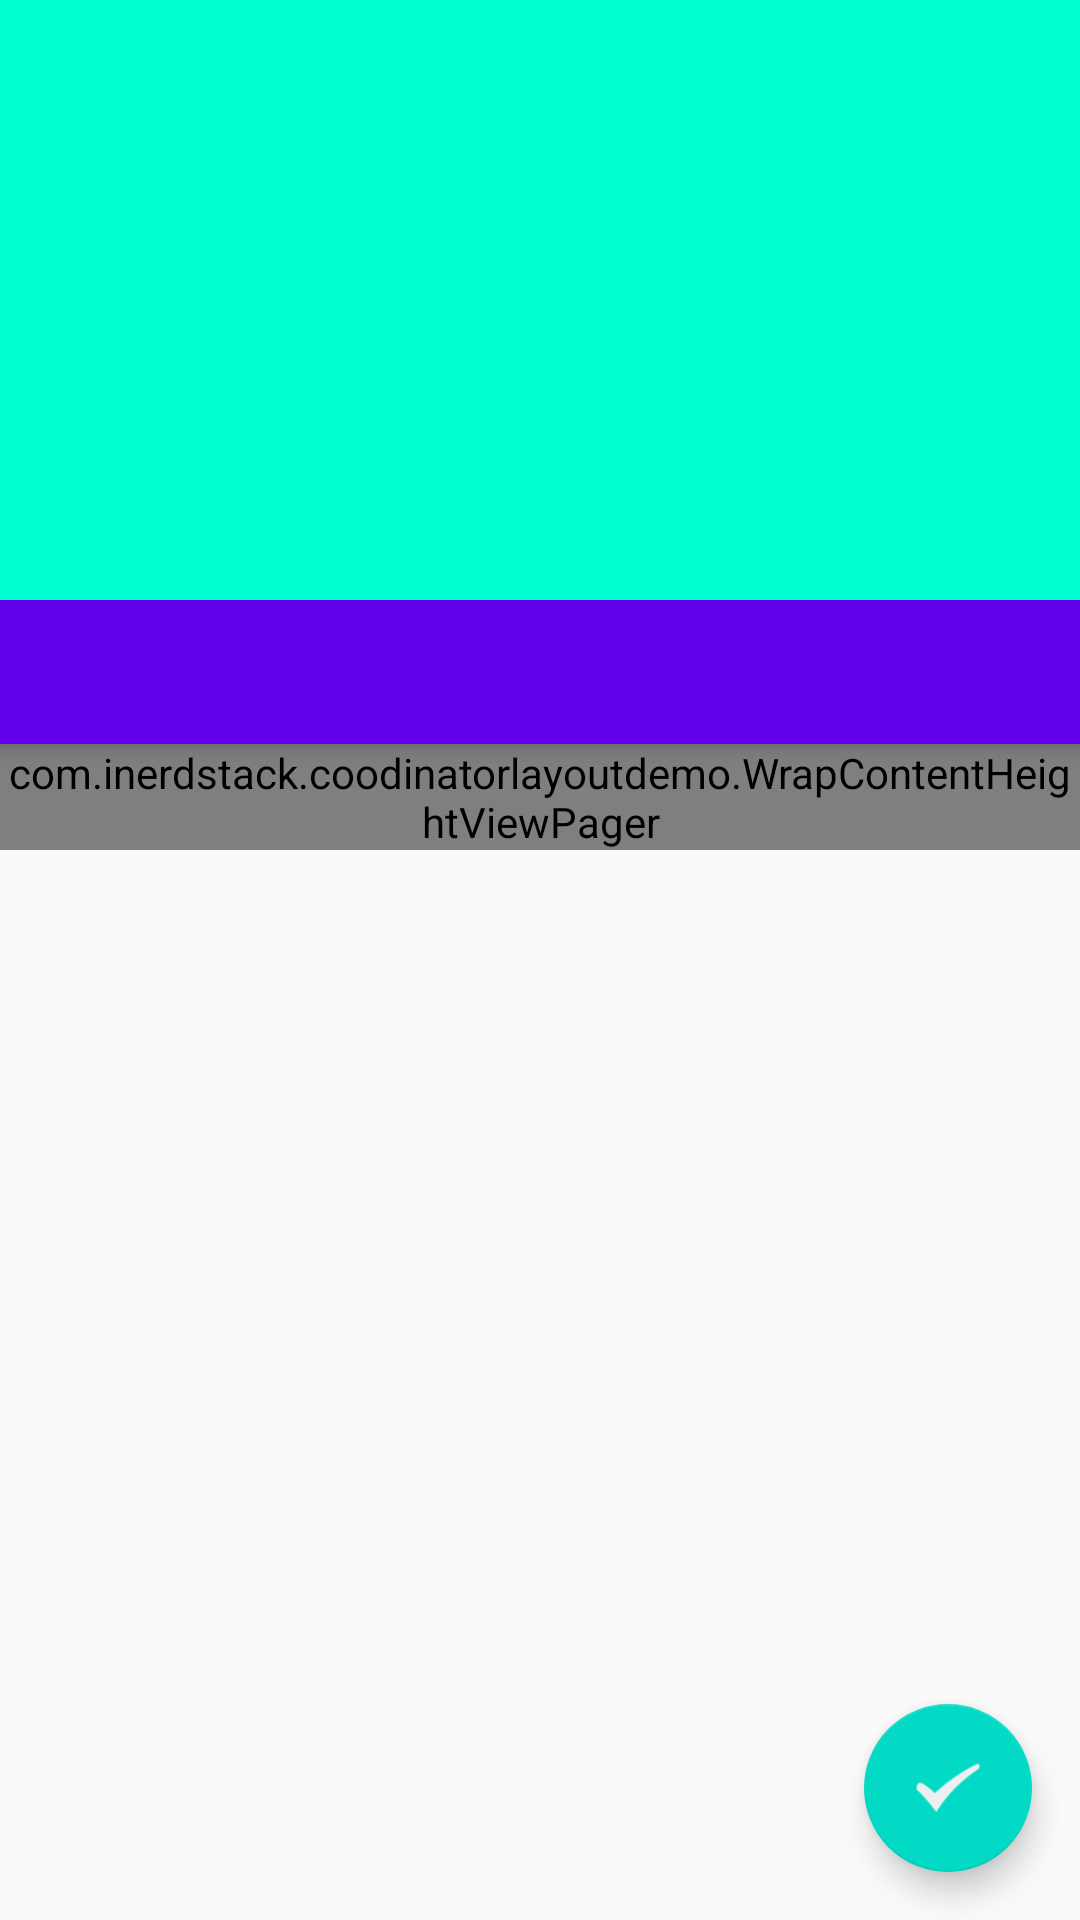

Named icons in this screenshot (1080w x 1920h) and their centers, [x,y]:
check: [948,1788]
